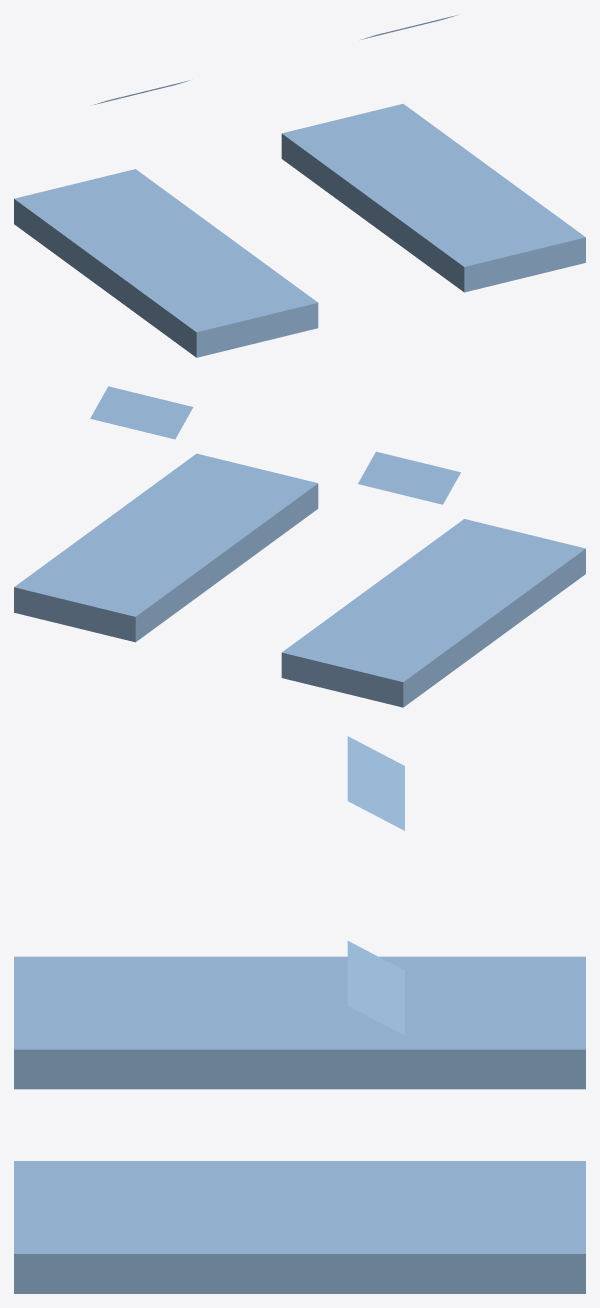
File: DepToOng.glb
3 renders of one model, top to bottom at view 1: azimuth 30°, elevation 25°; view 2: azimuth 150°, elevation 25°; view 3: azimuth 270°, elevation 25°, orthographic. The views are drawn at different scales.
Visible parts, largest first — view 1: geometry_0; view 2: geometry_0; view 3: geometry_0.
Boxes of the visible parts, box(x1,y1,x2,y2) form: geometry_0: box(14, 14, 585, 357); geometry_0: box(14, 386, 585, 707); geometry_0: box(14, 736, 585, 1293).
Size of the model in its own units: 0.32 by 0.1376 by 0.26.
